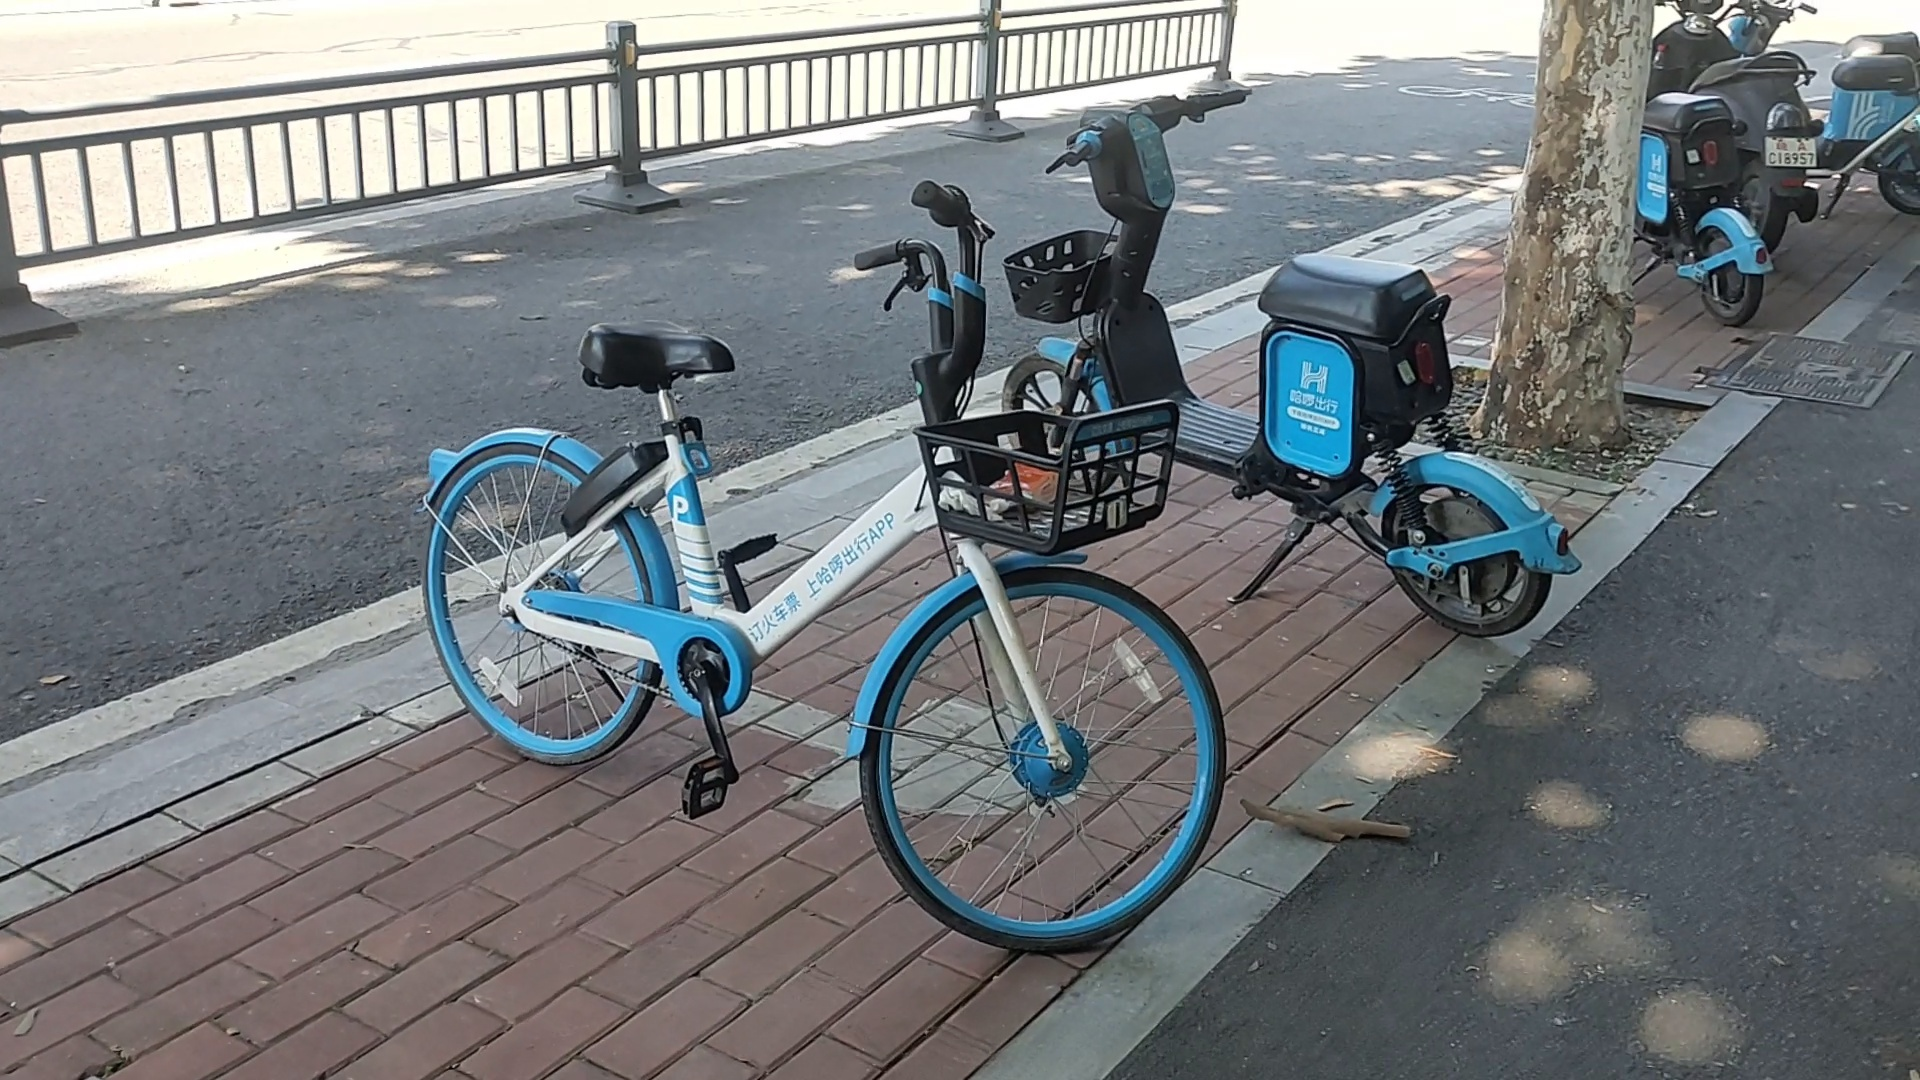non-vehicle: (419, 175, 1221, 1004), (953, 92, 1572, 665), (1640, 0, 1826, 334)
